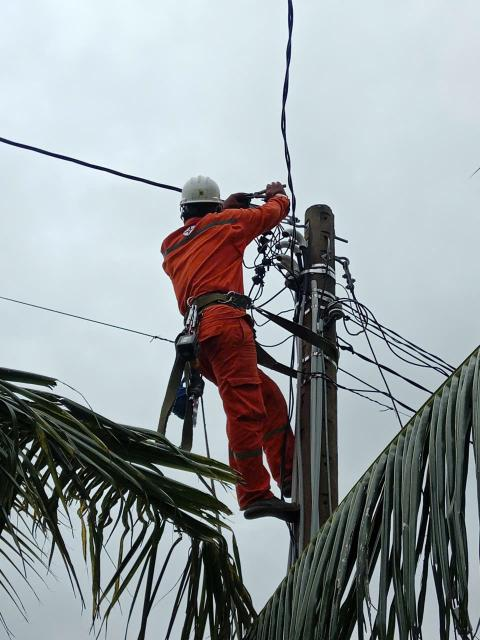gloves: (216, 181, 258, 216), (261, 175, 288, 211)
harness: (171, 283, 264, 323)
helmet: (173, 171, 219, 210)
shoes: (226, 493, 318, 537)
